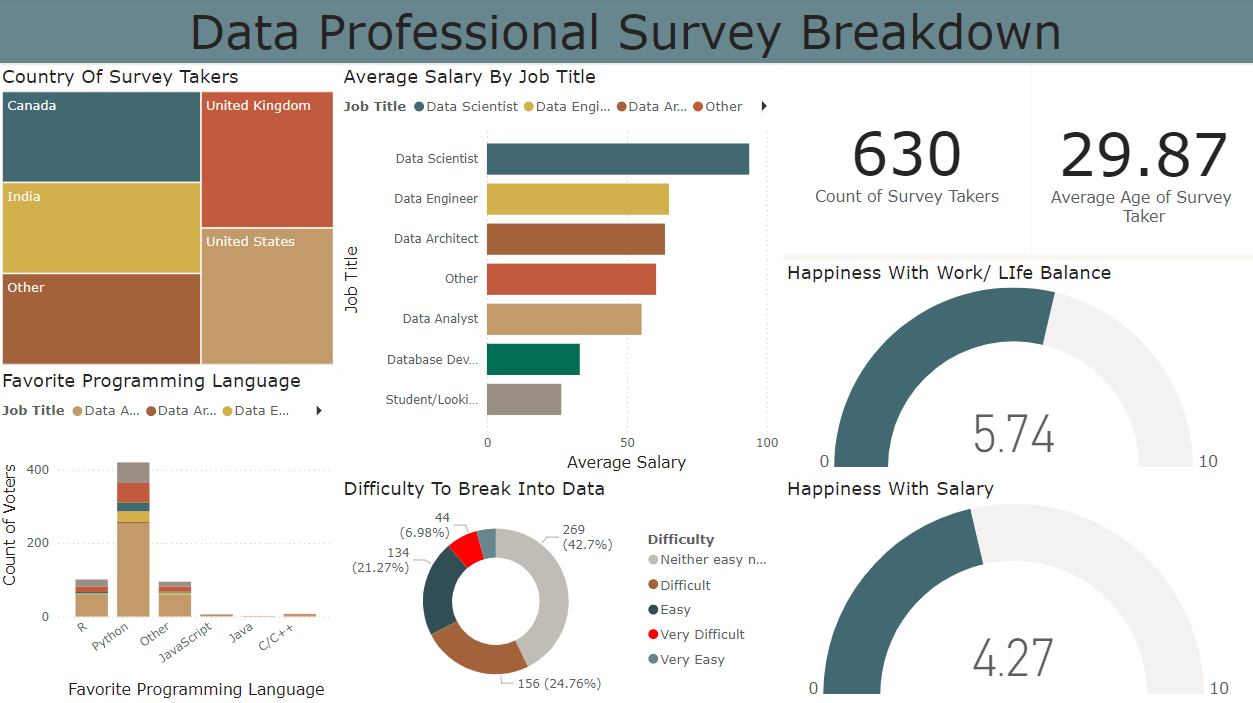

Layout of this report page (visuals, bound fields, positions):
{"tool":"powerbi","page":{"name":"Page 1","canvas":[1280,720],"ordinal":0},"visuals":[{"type":"textbox","box":[0,0,1280.5,69.2],"z":0},{"type":"card","fields":{"Values":["Count(Data Professional Survey.Unique ID)"]},"box":[799.7,69.2,253.4,192.8],"z":1000},{"type":"card","fields":{"Values":["Avg(Data Professional Survey.Q10 - Current Age)"]},"box":[1053,69.2,227.4,194],"z":2000},{"type":"barChart","title":"Average Salary By Job Title","fields":{"Category":["Data Professional Survey.Q1 - Which Title Best Fits your Current Role?.1"],"Y":["Avg(Data Professional Survey.Average Salary)"],"Series":["Data Professional Survey.Q1 - Which Title Best Fits your Current Role?.1"]},"box":[347.3,69.2,452.4,420.2],"z":3000},{"type":"columnChart","title":"Favorite Programming Language","fields":{"Category":["Data Professional Survey.Q5 - Favorite Programming Language.1"],"Y":["CountNonNull(Data Professional Survey.Unique ID)"],"Series":["Data Professional Survey.Q1 - Which Title Best Fits your Current Role?.1"]},"box":[0,379.4,347.3,341.1],"z":4000},{"type":"treemap","title":"Country Of Survey Takers","fields":{"Group":["Data Professional Survey.Q11 - Which Country do you live in?.1"],"Values":["Count(Data Professional Survey.Q11 - Which Country do you live in?.1)"]},"box":[0,69.2,347.3,310.2],"z":5000},{"type":"gauge","title":"Happiness With Work/ LIfe Balance ","fields":{"Y":["Avg(Data Professional Survey.Q6 - How Happy are you in your Current Position with the following? (Work/Life Balance))"],"MinValue":["Min(Data Professional Survey.Q6 - How Happy are you in your Current Position with the following? (Work/Life Balance))1"],"MaxValue":["Max(Data Professional Survey.Q6 - How Happy are you in your Current Position with the following? (Work/Life Balance))2"]},"box":[799.7,269.4,480.8,220],"z":6000},{"type":"gauge","title":"Happiness With Salary","fields":{"Y":["Avg(Data Professional Survey.Q6 - How Happy are you in your Current Position with the following? (Salary))"],"MaxValue":["Max(Data Professional Survey.Q6 - How Happy are you in your Current Position with the following? (Salary))"],"MinValue":["Min(Data Professional Survey.Q6 - How Happy are you in your Current Position with the following? (Salary))"]},"box":[799.7,489.4,480.8,231.1],"z":7000},{"type":"donutChart","title":"Difficulty To Break Into Data","fields":{"Category":["Data Professional Survey.Q7 - How difficult was it for you to break into Data?"],"Y":["CountNonNull(Data Professional Survey.Q7 - How difficult was it for you to break into Data?)"]},"box":[347.3,489.4,452.4,231.1],"z":8000}]}

Visuals, with their boxes in screenshot pixels (x1, y1, x2, y2), scaled from the page's 1280x720 canvas onto the 1253x703 screenshot:
textbox: region(0, 0, 1252, 68)
card - Count(Data Professional Survey.Unique ID): region(783, 68, 1031, 256)
card - Avg(Data Professional Survey.Q10 - Current Age): region(1031, 68, 1252, 257)
"Average Salary By Job Title" barChart: region(340, 68, 783, 478)
"Favorite Programming Language" columnChart: region(0, 370, 340, 702)
"Country Of Survey Takers" treemap: region(0, 68, 340, 370)
"Happiness With Work/ LIfe Balance " gauge: region(783, 263, 1252, 478)
"Happiness With Salary" gauge: region(783, 478, 1252, 702)
"Difficulty To Break Into Data" donutChart: region(340, 478, 783, 702)
